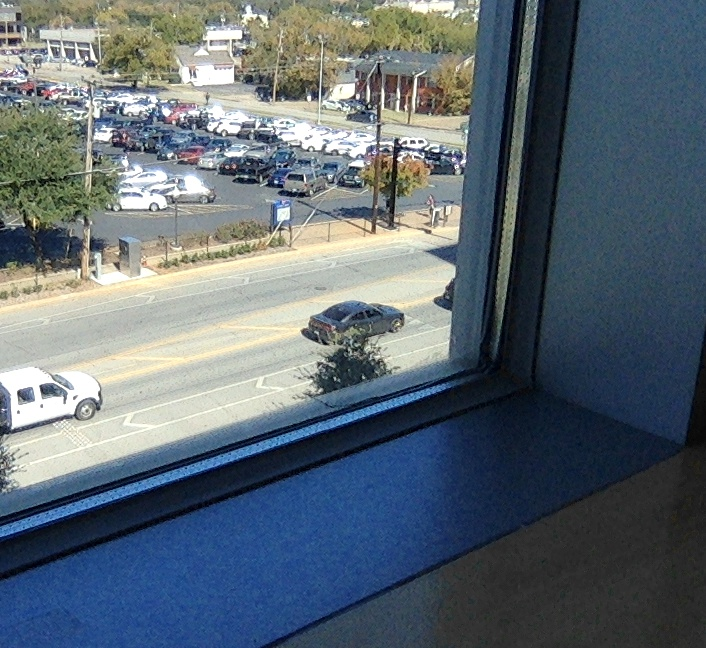car: (300, 300, 406, 348)
